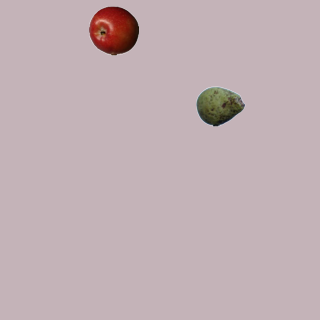Apple Braeburn: (88, 5, 138, 55)
Pear Stone: (195, 81, 245, 131)
